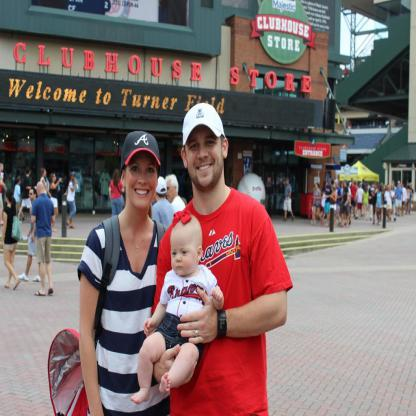face: (187, 127, 223, 188), (127, 157, 157, 209), (170, 229, 199, 277)
